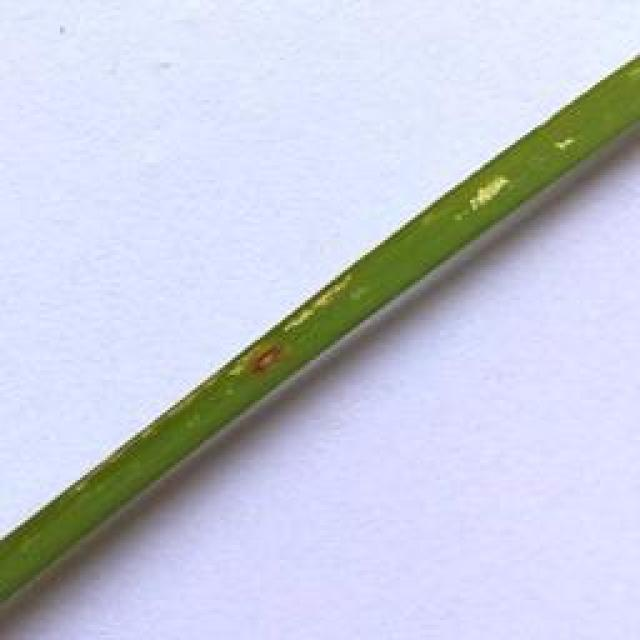Unhealthy: (69, 372, 219, 493), (283, 273, 353, 330), (471, 175, 509, 212), (251, 341, 286, 373), (229, 342, 260, 375), (554, 137, 578, 151)
